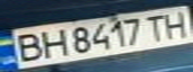1: (106, 17, 127, 48)
4: (90, 20, 112, 51)
7: (121, 15, 148, 46)
8: (66, 24, 93, 55)
B: (6, 29, 48, 63)
H: (33, 27, 69, 58), (160, 7, 193, 39)
T: (139, 11, 172, 42)
